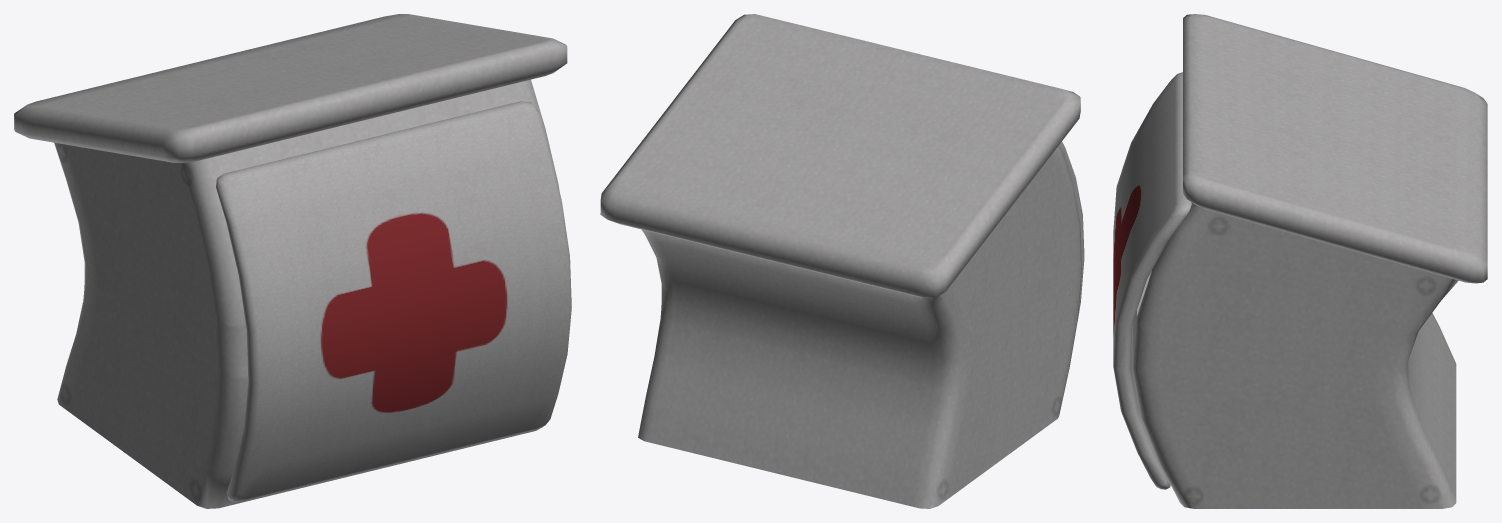
The model's file is Cabinet_C.glb.
3 views of the same model, side by side, from view 1: azimuth 30°, elevation 25°; view 2: azimuth 150°, elevation 25°; view 3: azimuth 270°, elevation 25° (orthographic). The views are drawn at different scales.
Visible parts, largest first — view 1: Cube.002, Cube.001; view 2: Cube.001, Cube.002; view 3: Cube.001, Cube.002.
Part boxes in pixels (box(x1,y1,x2,y2)): Cube.002: box(216, 101, 571, 501); Cube.001: box(14, 14, 567, 508); Cube.001: box(600, 14, 1082, 508); Cube.002: box(1058, 142, 1084, 315); Cube.001: box(1133, 14, 1487, 508); Cube.002: box(1113, 72, 1191, 489).
Size of the model in its own units: 1.38 by 1.26 by 1.26.
Materials: 2 (2 with a texture image).
